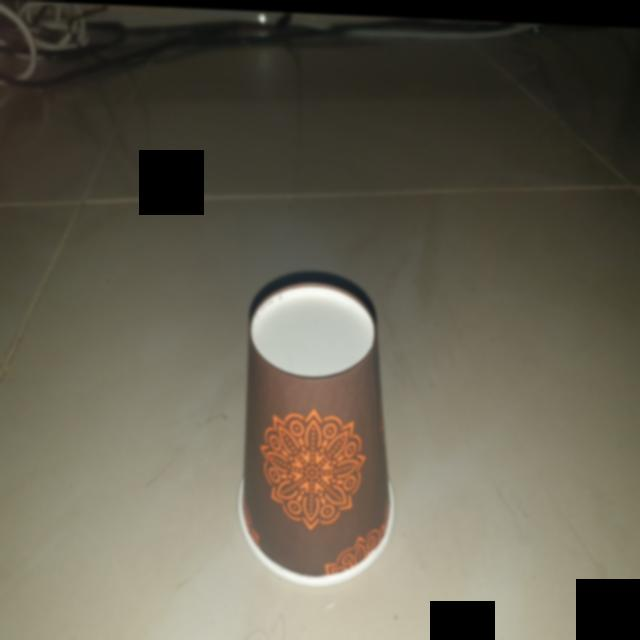cups: (235, 264, 403, 594)
